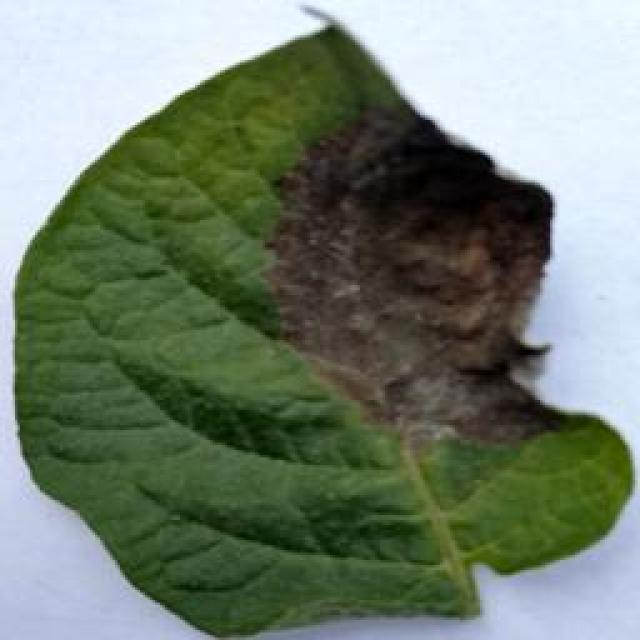Potato_Late_Blight: (0, 7, 630, 635)
